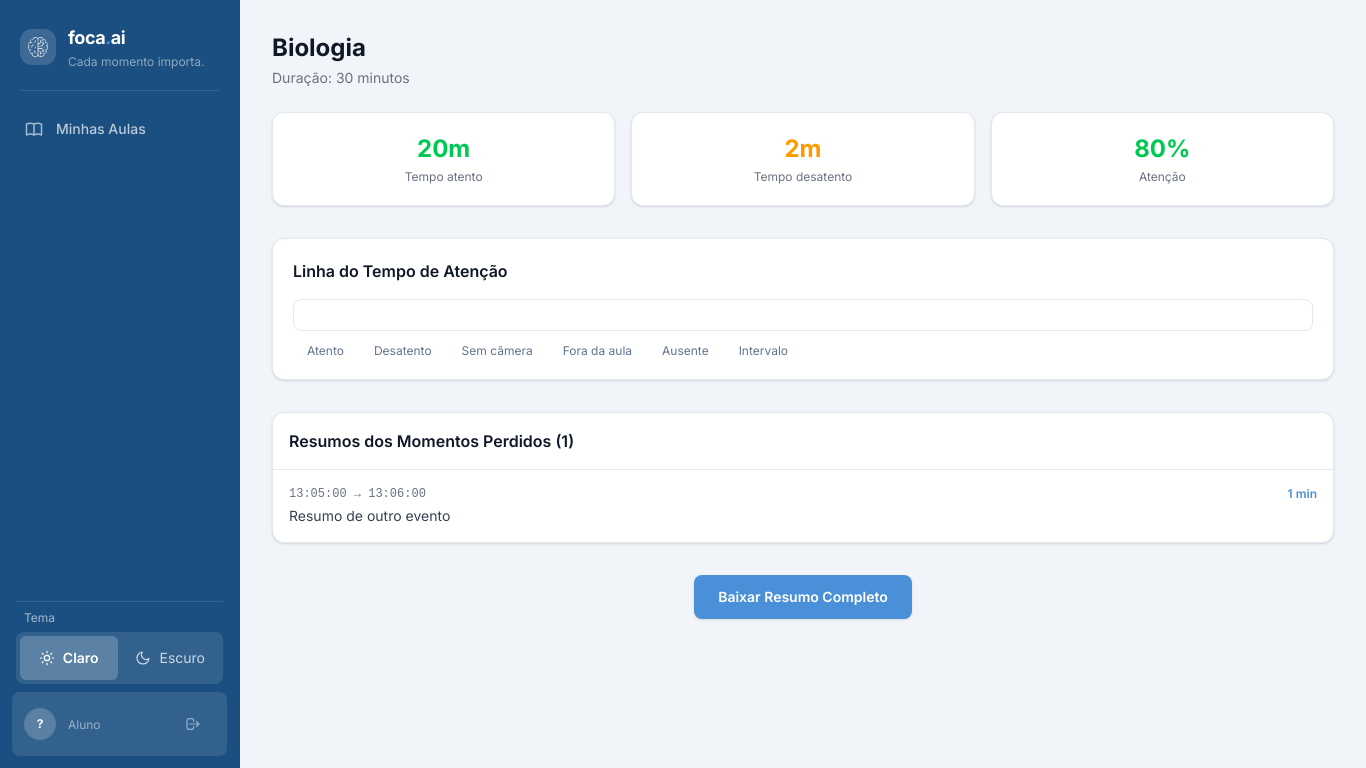
Test: Revisão da aula (#5) › #40 CA6 (erro): distração de outro evento não empresta o resumo, mesmo com o mesmo instante
Step 1. Click the button named "Desatento: 1 min — abrir resumo" → (486, 322), box [464,300,508,344]
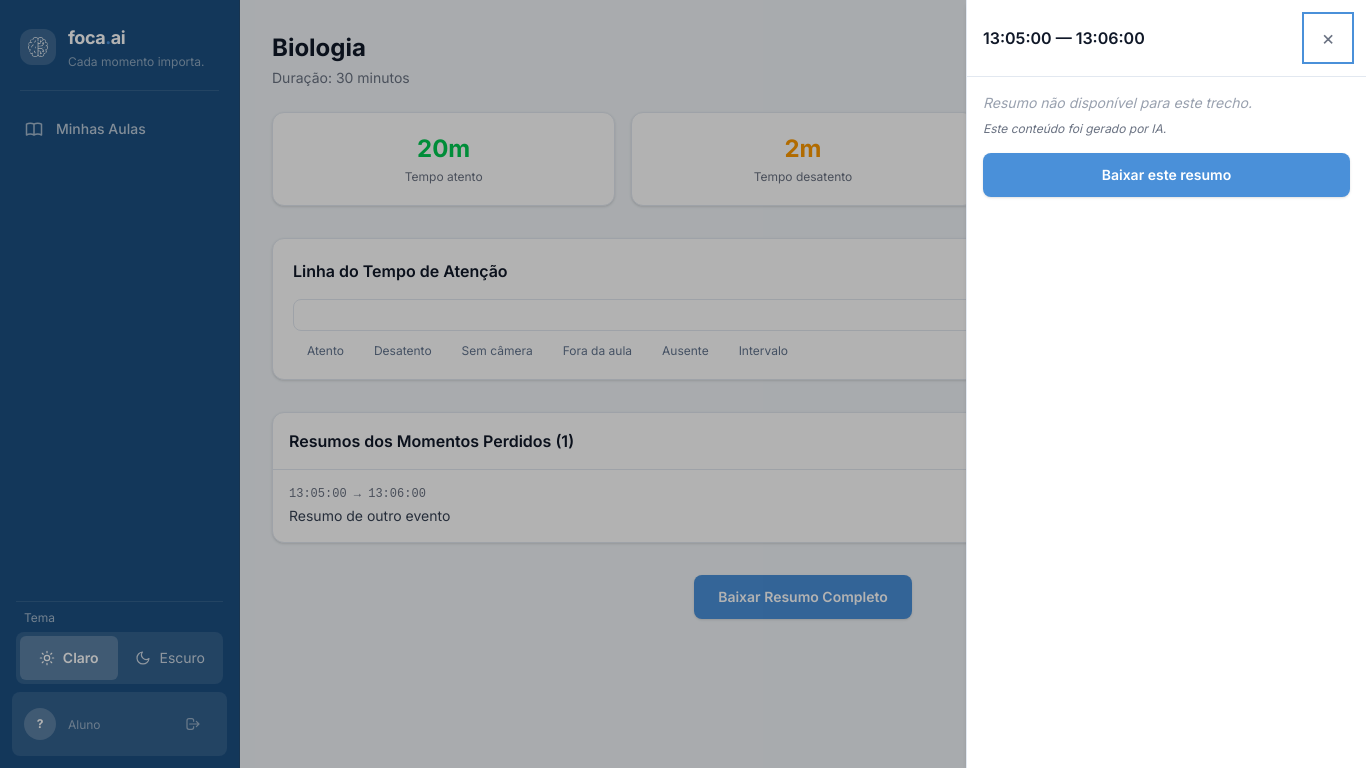
Expected: the dialog does not show "Resumo de outro evento"
Now the dialog shows "Resumo não disponível para este trecho.", box [983,94,1252,111]
